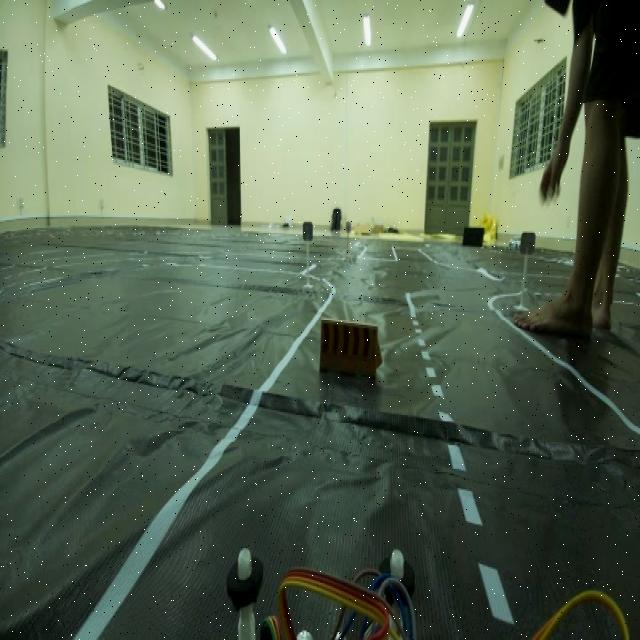roadblock: (313, 306, 395, 394)
